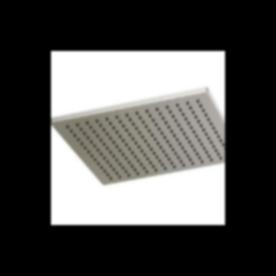Ducha: (51, 69, 225, 192)
